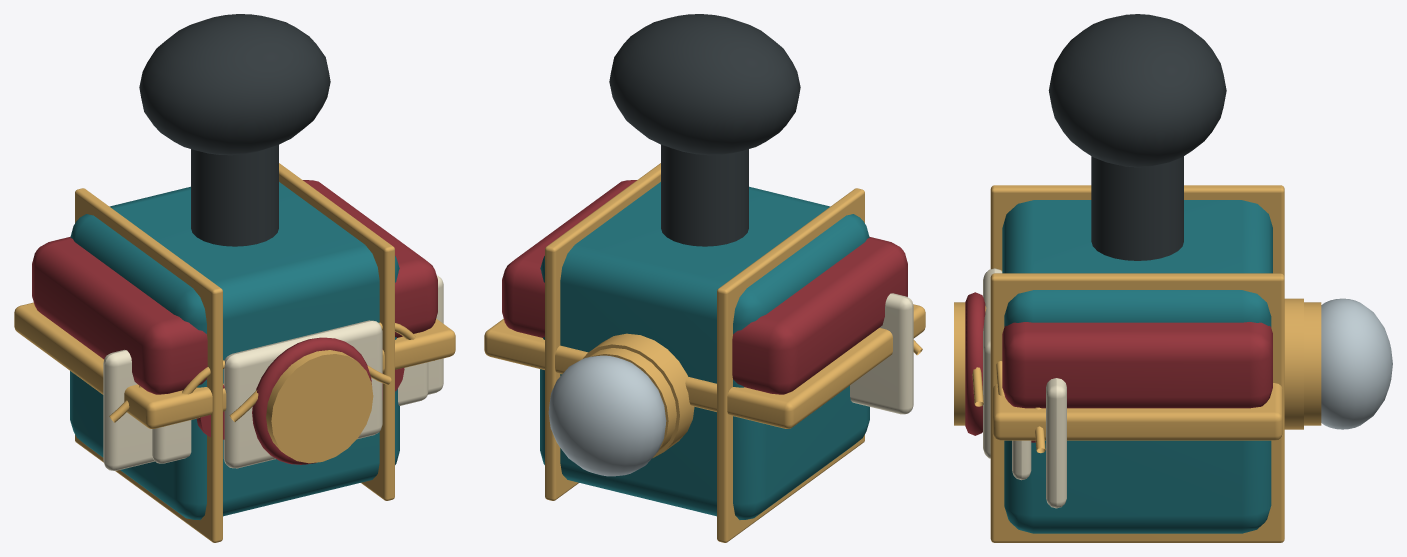
The model's file is items.glb.
3 renders of one model, left to right at view 1: azimuth 30°, elevation 25°; view 2: azimuth 150°, elevation 25°; view 3: azimuth 270°, elevation 25°, orthographic. The views are drawn at different scales.
Visible parts, largest first — view 1: pickup / Petrol enamel, trap / Dark leather, trap / Official burgundy, pickup / Brushed champagne brass, direct / Brushed champagne brass, trap / Brushed champagne brass, pickup / Permit paper, homing / Permit paper, direct / Official burgundy, direct / Permit paper; view 2: pickup / Petrol enamel, trap / Dark leather, trap / Official burgundy, pickup / Brushed champagne brass, direct / Polished steel, trap / Brushed champagne brass, homing / Permit paper, homing / Brushed champagne brass, direct / Brushed champagne brass; view 3: pickup / Petrol enamel, trap / Dark leather, trap / Official burgundy, pickup / Brushed champagne brass, trap / Brushed champagne brass, direct / Polished steel, direct / Brushed champagne brass, homing / Brushed champagne brass, homing / Permit paper, direct / Official burgundy, pickup / Permit paper, direct / Permit paper.
Part boxes in pixels (x1,y1,x2,y2): pickup / Petrol enamel: [70, 182, 399, 519]; trap / Dark leather: [139, 14, 330, 246]; trap / Official burgundy: [32, 180, 437, 394]; pickup / Brushed champagne brass: [75, 163, 394, 542]; direct / Brushed champagne brass: [182, 322, 434, 463]; trap / Brushed champagne brass: [14, 302, 455, 428]; pickup / Permit paper: [223, 320, 382, 468]; homing / Permit paper: [103, 275, 443, 470]; direct / Official burgundy: [196, 337, 404, 464]; direct / Permit paper: [152, 362, 428, 463]; pickup / Petrol enamel: [540, 182, 869, 519]; trap / Dark leather: [609, 14, 800, 246]; trap / Official burgundy: [502, 180, 907, 394]; pickup / Brushed champagne brass: [545, 163, 864, 542]; direct / Polished steel: [548, 355, 666, 476]; trap / Brushed champagne brass: [484, 304, 925, 428]; homing / Permit paper: [850, 293, 913, 414]; homing / Brushed champagne brass: [583, 333, 922, 458]; direct / Brushed champagne brass: [588, 348, 676, 451]; pickup / Petrol enamel: [1002, 200, 1272, 533]; trap / Dark leather: [1048, 14, 1226, 260]; trap / Official burgundy: [1002, 322, 1272, 408]; pickup / Brushed champagne brass: [972, 185, 1284, 542]; trap / Brushed champagne brass: [992, 383, 1282, 440]; direct / Polished steel: [1321, 298, 1392, 429]; direct / Brushed champagne brass: [954, 270, 1321, 425]; homing / Brushed champagne brass: [1034, 298, 1303, 453]; homing / Permit paper: [1046, 378, 1066, 508]; direct / Official burgundy: [965, 292, 985, 435]; pickup / Permit paper: [983, 268, 1002, 458]; direct / Permit paper: [1012, 440, 1031, 480].
Size of the model in its own units: 1.07 by 1.34 by 1.14.
